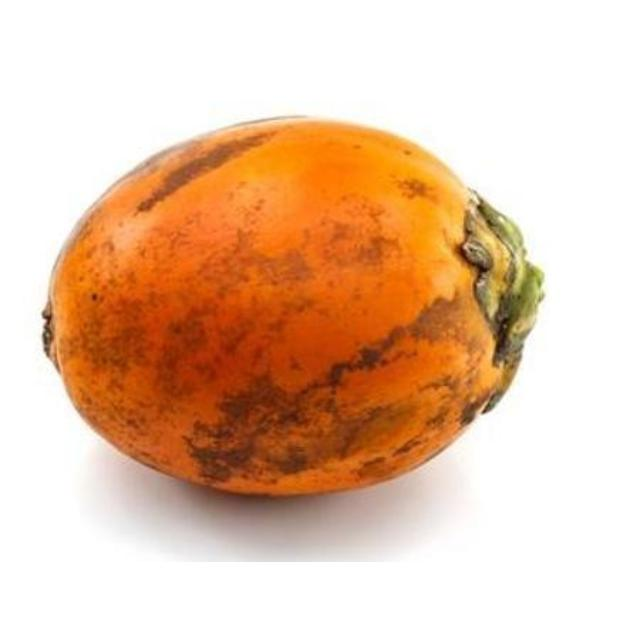good: (44, 115, 545, 500)
